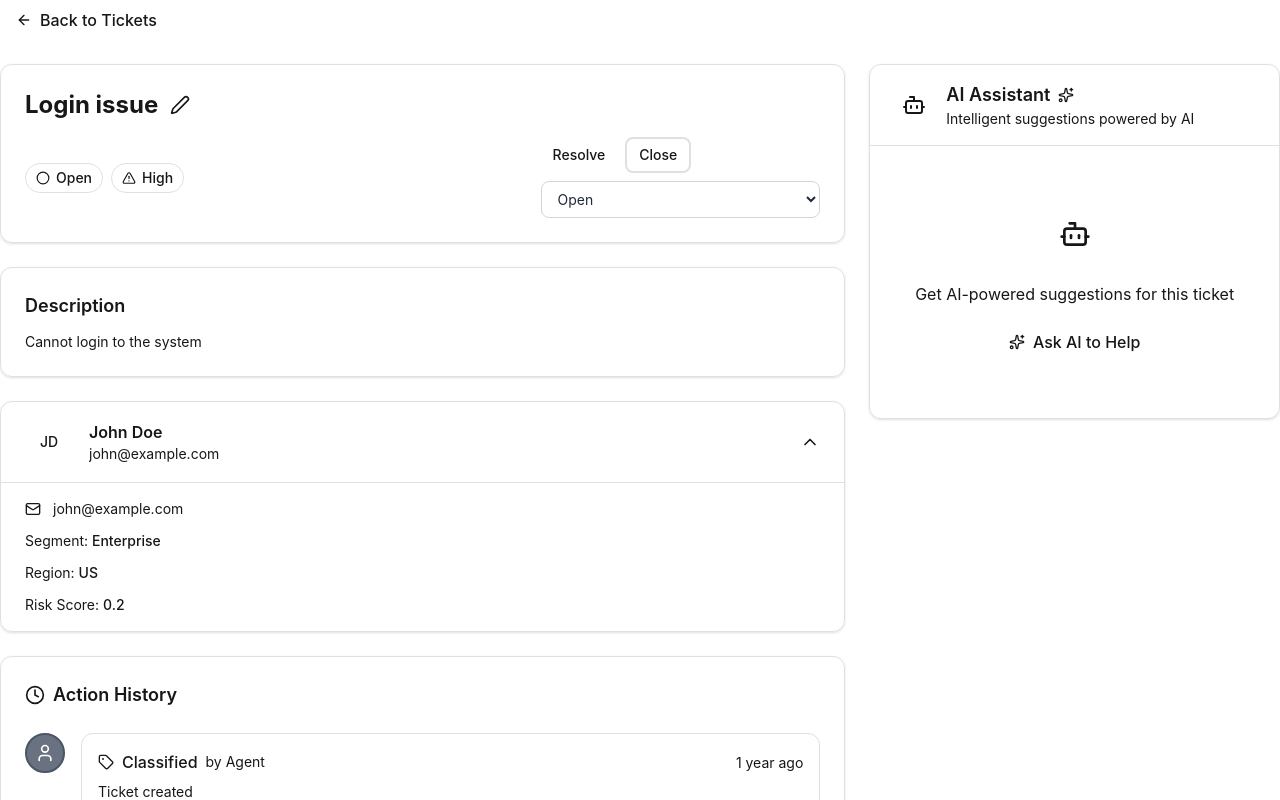
Integration Tests: User Flows › Complete Flow: Filter tickets → View detail → Apply AI suggestion › should load ticket detail with AI assistance
The image size is (1280, 800).
Check: the heading "Login issue" is shown, box [25, 89, 158, 121]
Check: the text "Cannot login to the system" is shown, box [25, 333, 202, 350]
Click AI assistance button
Click the button "Ask AI to Help": (1075, 342) [993, 322, 1156, 362]
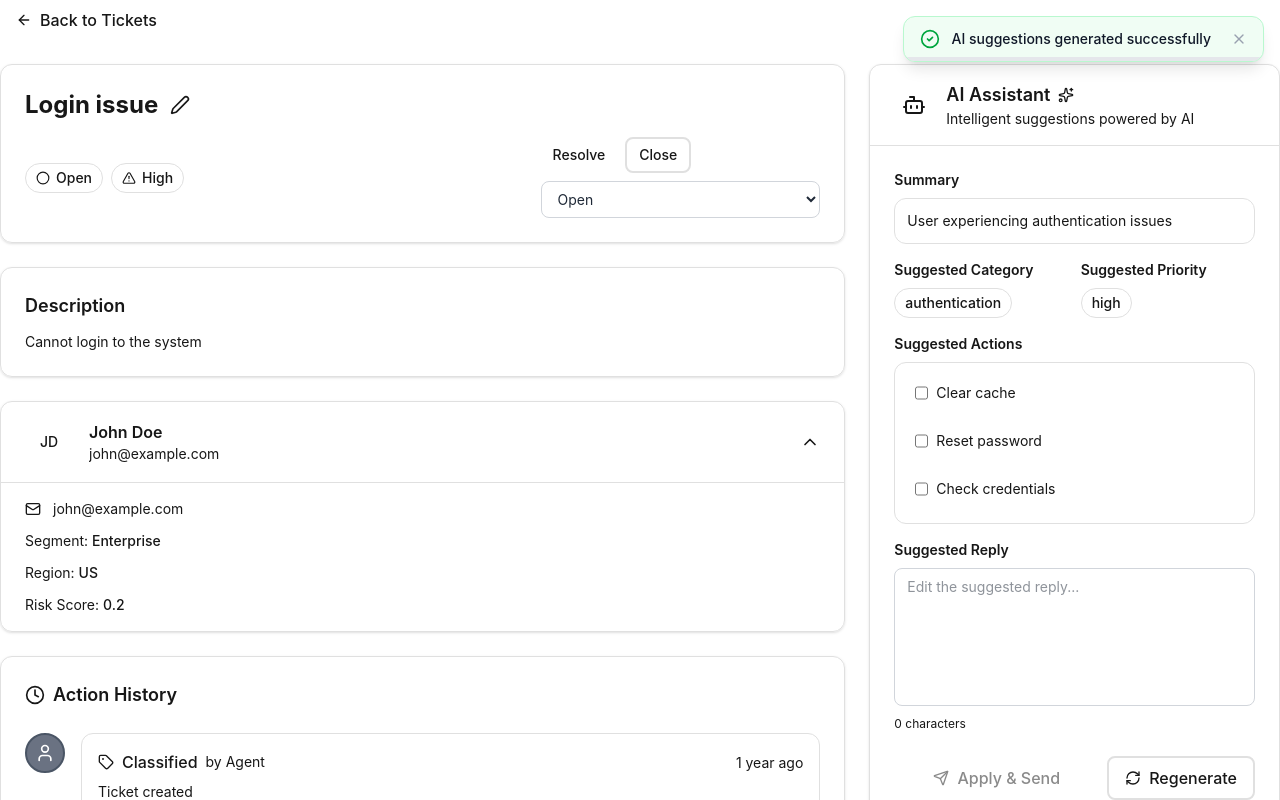
Check: the text "User experiencing authentication issues" is shown, box [894, 198, 1255, 244]
